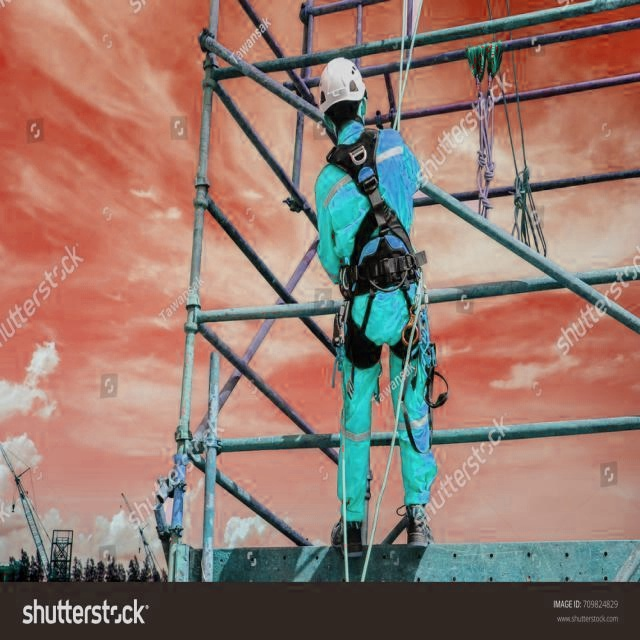safety belt: (313, 144, 423, 369)
